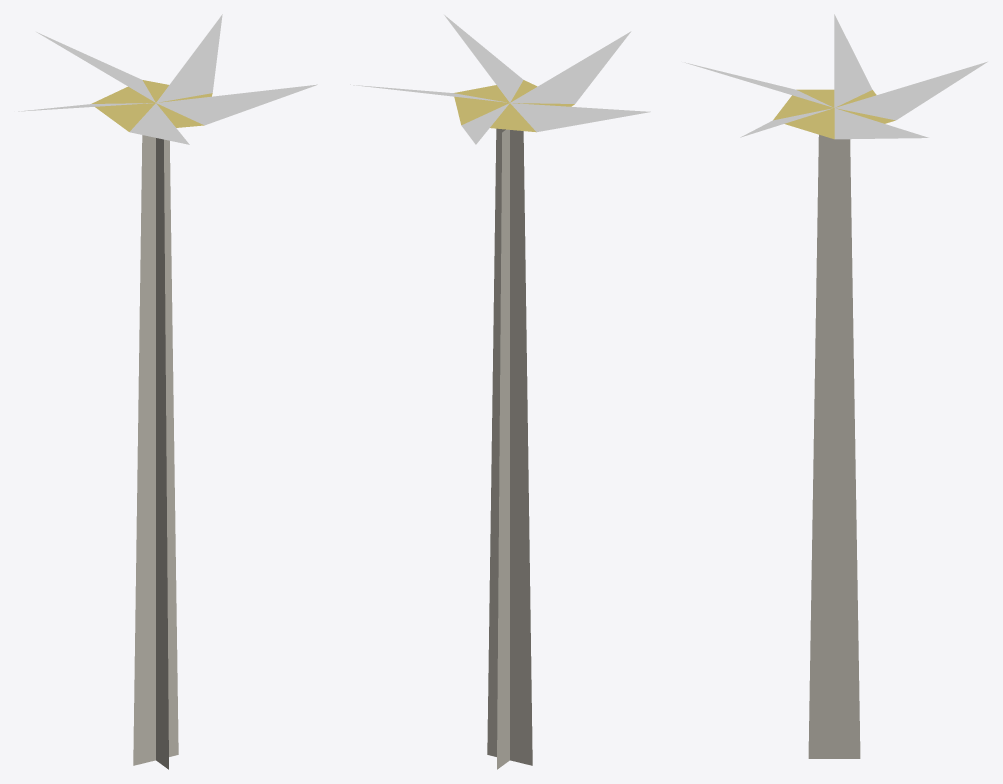
The model's file is flower.glb.
3 renders of one model, left to right at view 1: azimuth 30°, elevation 25°; view 2: azimuth 150°, elevation 25°; view 3: azimuth 270°, elevation 25°, orthographic.
Visible parts, largest first — view 1: flower; view 2: flower; view 3: flower.
Boxes of the visible parts, <box> form: flower: <box>18,14,317,769</box>; flower: <box>350,15,650,769</box>; flower: <box>684,14,987,758</box>.
Bounding box in the file's own units: 0.1357 × 0.345 × 0.1427.
